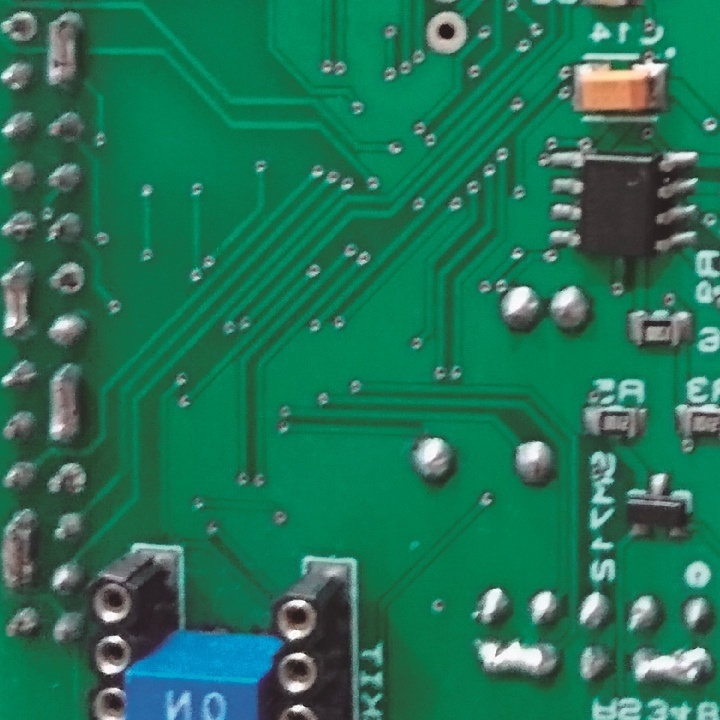F: (424, 11, 469, 57), (46, 458, 88, 506), (44, 260, 90, 300), (1, 9, 40, 48)
P: (628, 647, 713, 689), (1, 509, 37, 598), (46, 9, 83, 95), (476, 642, 558, 680), (51, 365, 83, 446), (3, 257, 32, 344)
